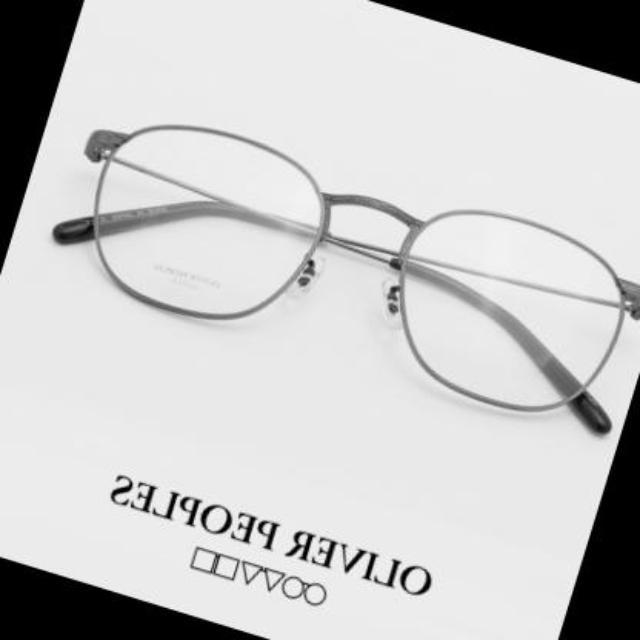glasses: (80, 124, 640, 434)
